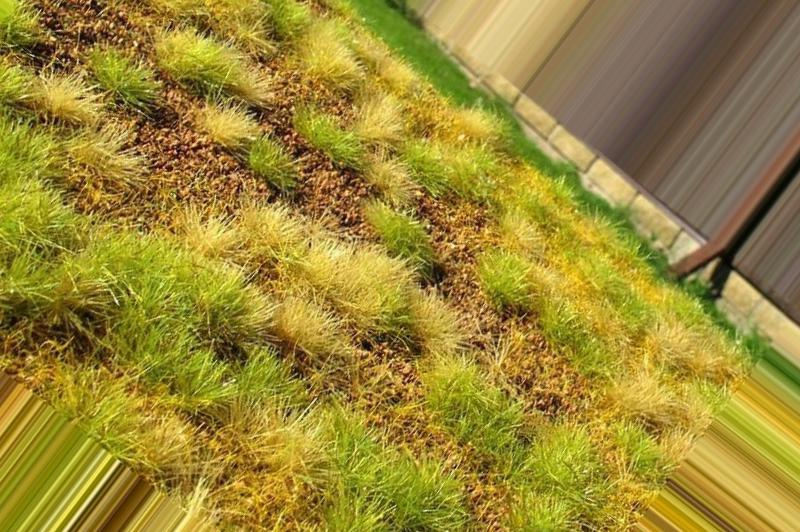patch: (308, 143, 393, 247), (354, 347, 431, 424), (162, 138, 248, 205), (345, 267, 417, 318), (183, 216, 241, 262), (271, 302, 332, 345)
